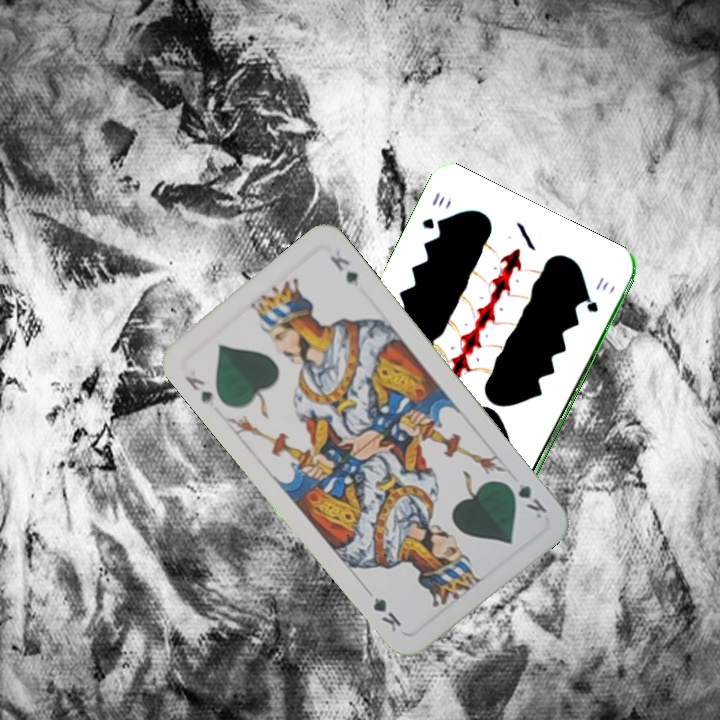G10: (418, 189, 447, 234)
GK: (501, 477, 550, 522), (181, 371, 216, 407)
